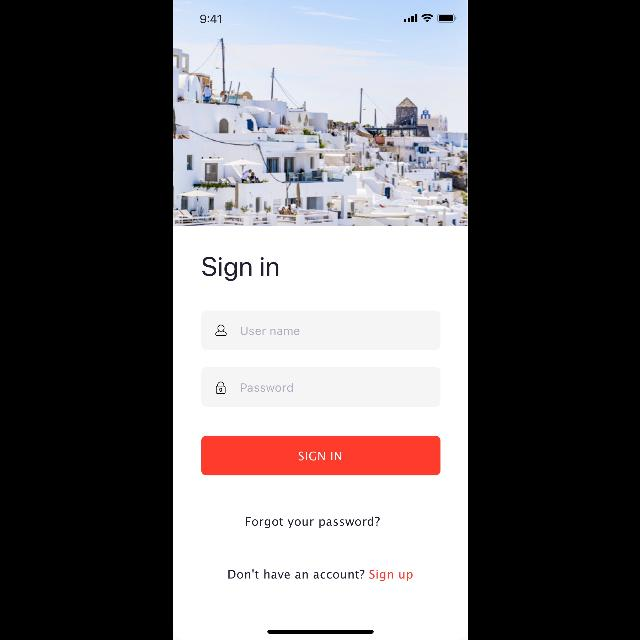icon: (214, 324, 226, 336), (216, 382, 224, 394)
image: (172, 0, 468, 226)
input: (200, 310, 440, 350), (200, 368, 440, 407)
text: (228, 569, 412, 581), (202, 257, 278, 281), (245, 516, 379, 528), (240, 383, 292, 392), (240, 327, 298, 335)
textbutton: (200, 436, 440, 476)
uppertaskbar: (200, 14, 456, 24)
